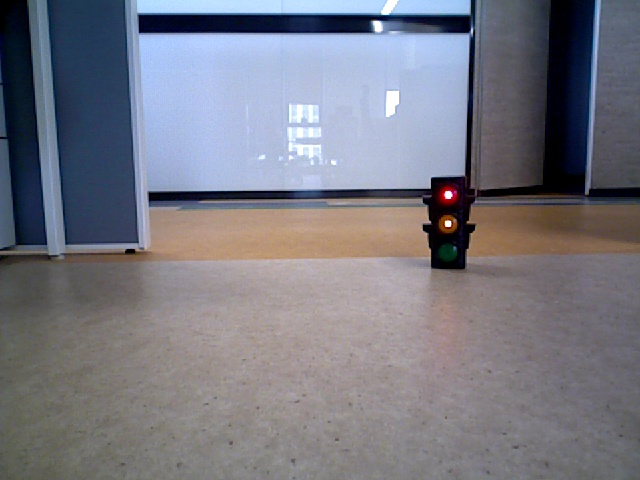red: (430, 176, 469, 263)
